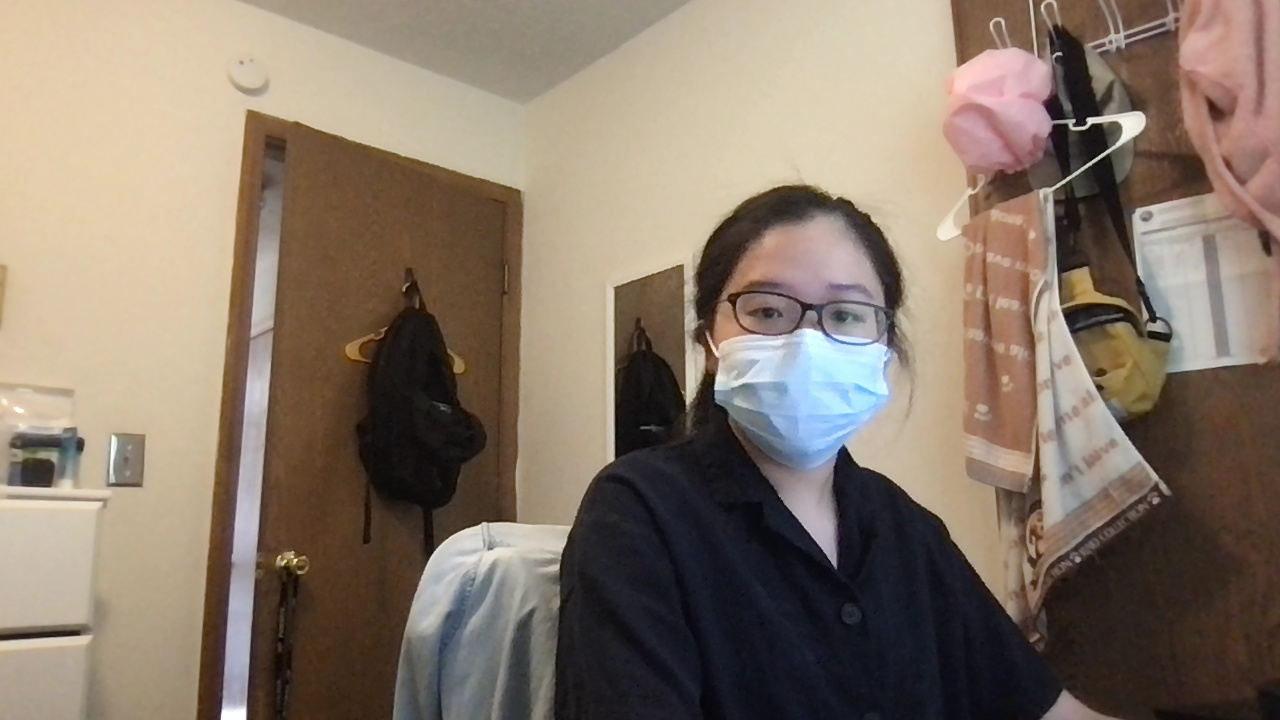Mask: (719, 332, 902, 464)
